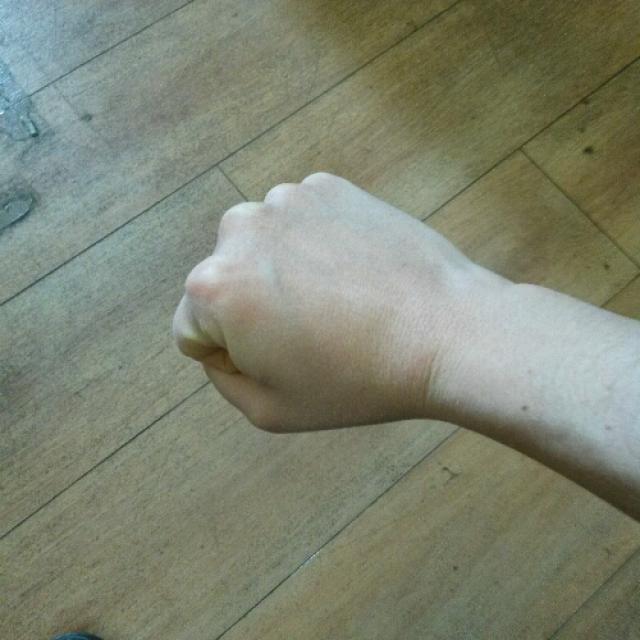rock: (176, 171, 440, 433)
